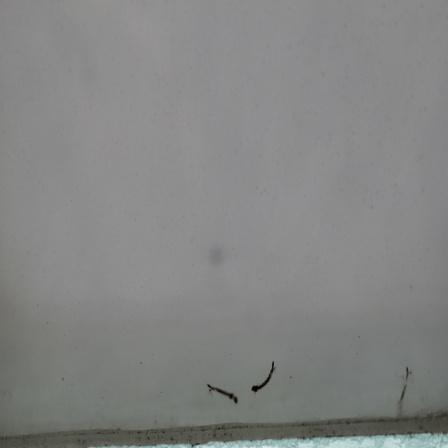Jentik-Nyamuk: (248, 358, 280, 396), (204, 378, 240, 408)
